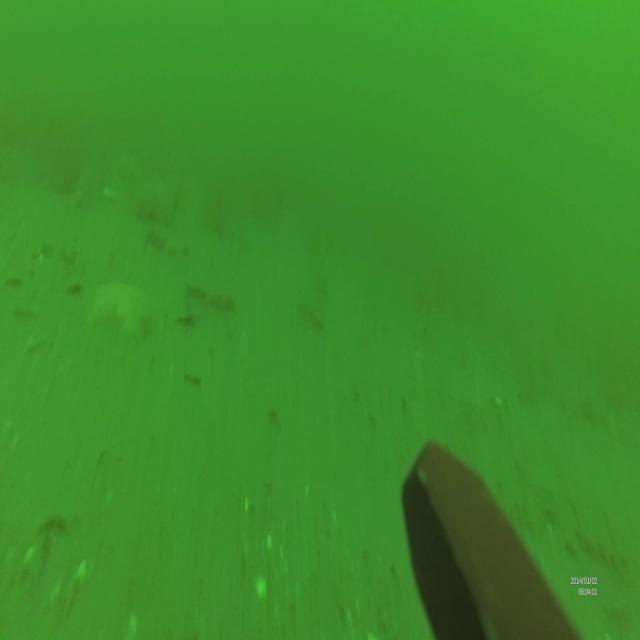starfish: (91, 268, 152, 346)
